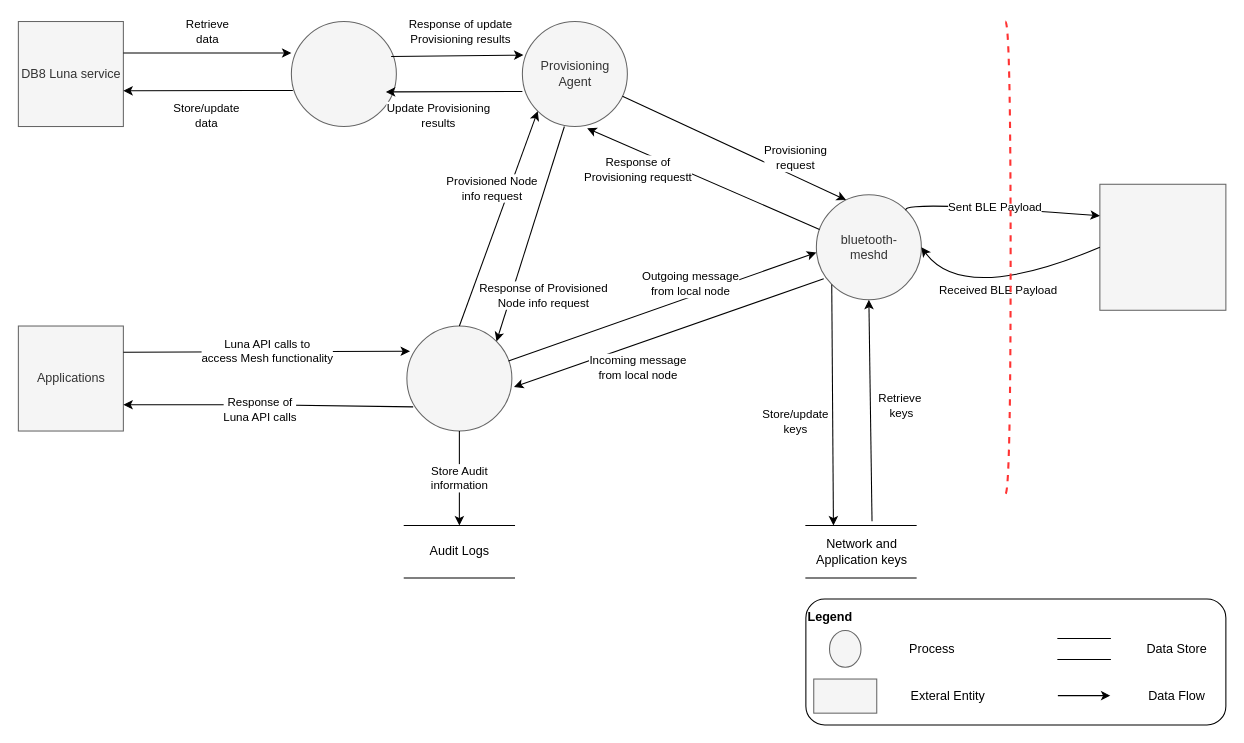
Image size: 1244x743. Some labels were removed from this diagram. The centre of each missing label's shape, as x and y in pixels:
BLE Mesh Network: the point at 1162,246
DataBase Manager: the point at 343,73
Node Element manager: the point at 459,378
